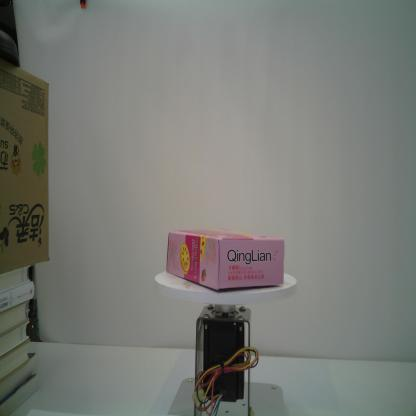Dessert: (166, 228, 286, 291)
